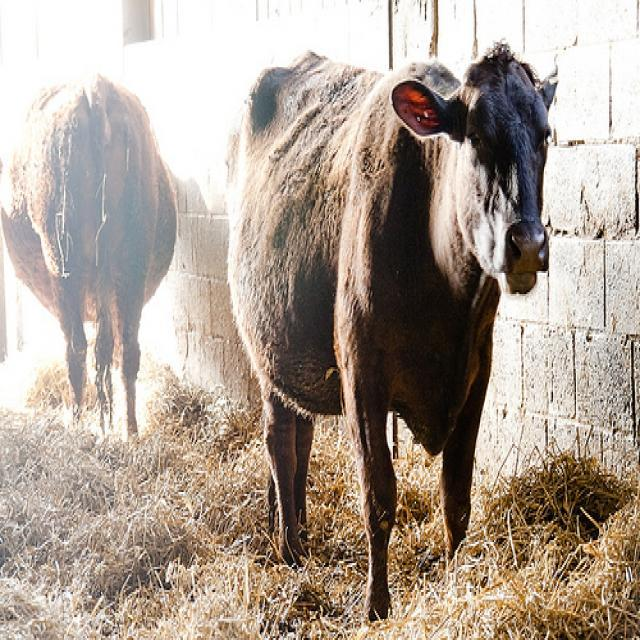cow: (223, 38, 558, 623), (0, 69, 170, 429)
